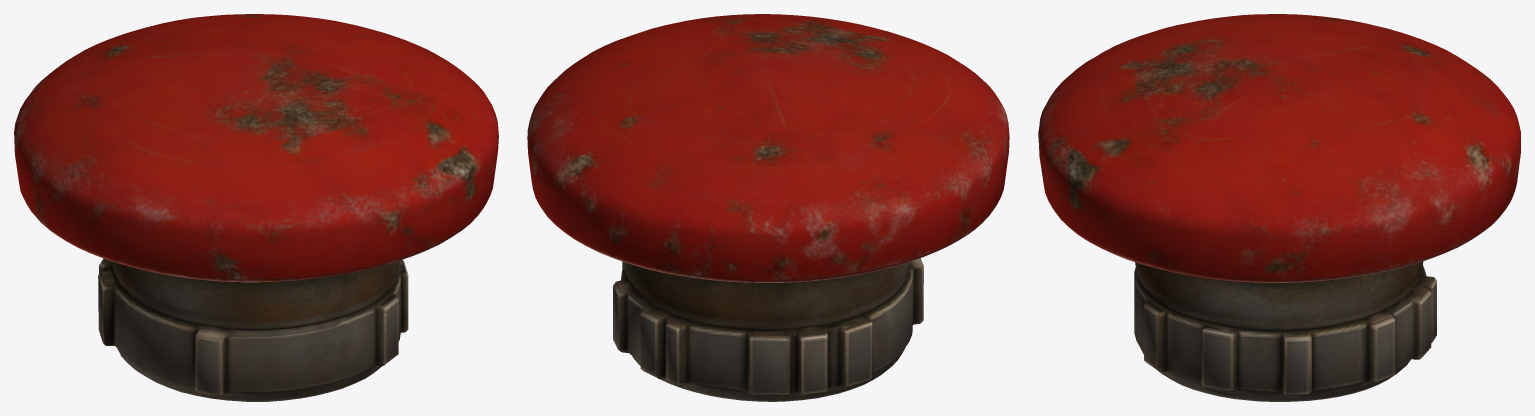
The model's file is button.glb.
3 renders of one model, left to right at view 1: azimuth 30°, elevation 25°; view 2: azimuth 150°, elevation 25°; view 3: azimuth 270°, elevation 25°, orthographic.
Visible parts, largest first — view 1: mesh_rep_0_ori_repair; view 2: mesh_rep_0_ori_repair; view 3: mesh_rep_0_ori_repair.
Part boxes in pixels (bbox=[...]): mesh_rep_0_ori_repair: bbox=[14, 14, 498, 401]; mesh_rep_0_ori_repair: bbox=[527, 14, 1009, 401]; mesh_rep_0_ori_repair: bbox=[1038, 14, 1520, 401].
Bounding box in the file's own units: 1.13 × 0.749 × 1.13.
1 material, 1 textured.
